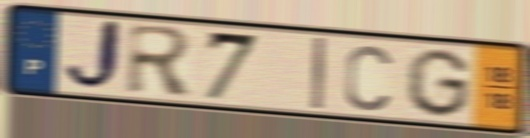7: (200, 28, 264, 102)
C: (342, 41, 394, 113)
G: (403, 46, 473, 119)
I: (310, 34, 329, 112)
J: (60, 16, 125, 96)
R: (124, 21, 196, 98)
